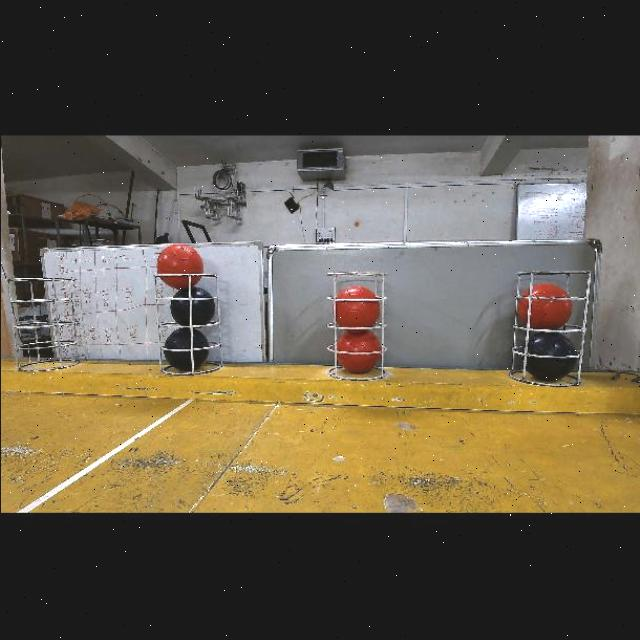P: (521, 332, 577, 379), (162, 326, 208, 371), (169, 285, 215, 325)
R: (516, 281, 572, 329), (156, 243, 203, 289), (335, 330, 380, 373), (335, 284, 379, 327)
S: (509, 264, 593, 390), (326, 271, 390, 385), (158, 271, 216, 379), (12, 276, 74, 370)
